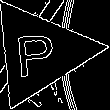P_N: (17, 25, 63, 79)
